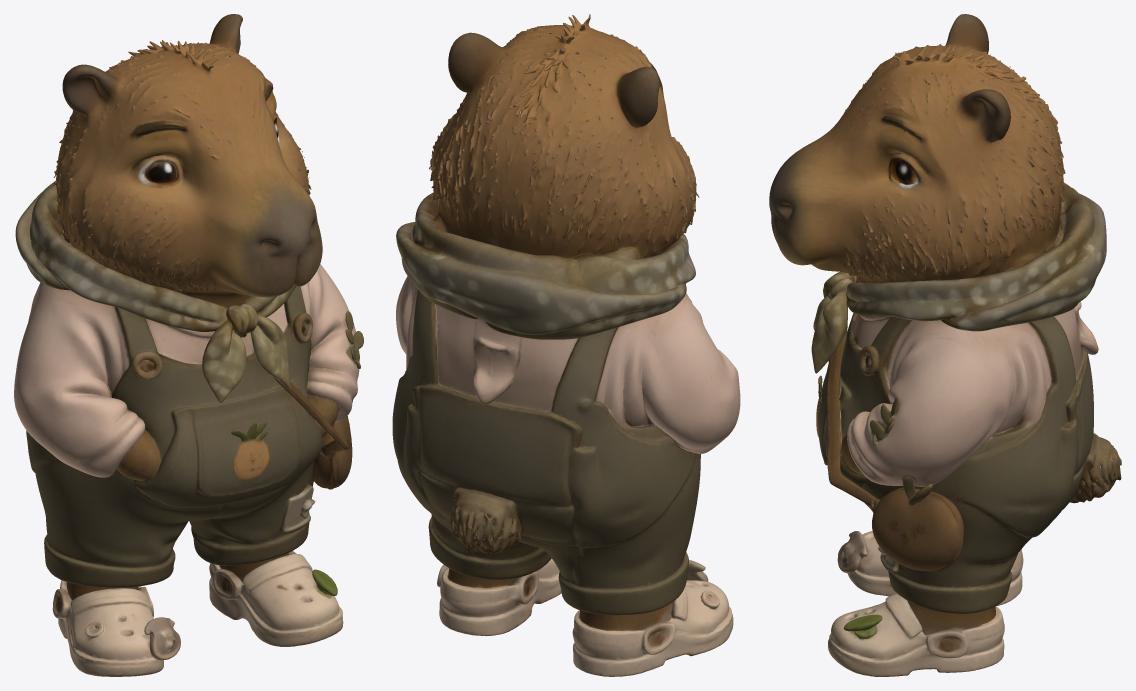
The model's file is capybara.glb.
3 views of the same model, side by side, from view 1: azimuth 30°, elevation 25°; view 2: azimuth 150°, elevation 25°; view 3: azimuth 270°, elevation 25° (orthographic). The views are drawn at different scales.
Parts seen in each view (by area): view 1: world; view 2: world; view 3: world.
Boxes of the visible parts, x1,y1,x2,y2 form: world: [14, 14, 363, 676]; world: [392, 14, 740, 676]; world: [769, 14, 1121, 676].
Bounding box in the file's own units: 0.581 × 1 × 0.5581.
1 material, 1 textured.
